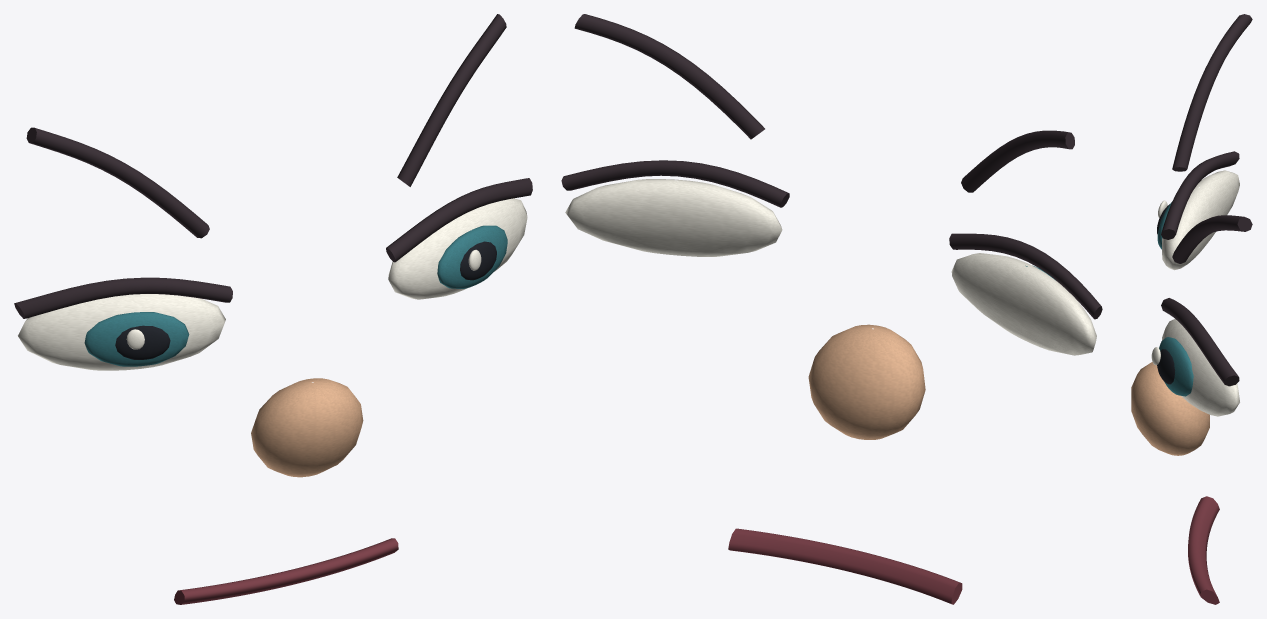
The model's file is face_deadpan.gltf.
3 renders of one model, left to right at view 1: azimuth 30°, elevation 25°; view 2: azimuth 150°, elevation 25°; view 3: azimuth 270°, elevation 25°, orthographic. The views are drawn at different scales.
Visible parts, largest first — view 1: Deadpan; view 2: Deadpan; view 3: Deadpan.
Part boxes in pixels (bbox=[...]): Deadpan: bbox=[14, 14, 532, 604]; Deadpan: bbox=[561, 14, 1102, 604]; Deadpan: bbox=[1131, 14, 1252, 604].
Bounding box in the file's own units: 0.2785 × 0.2567 × 0.0637.
6 materials, 6 textured.
